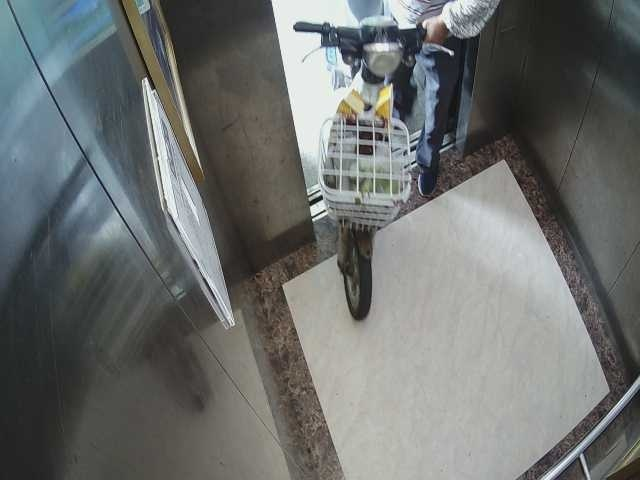emotor: (284, 4, 436, 325)
